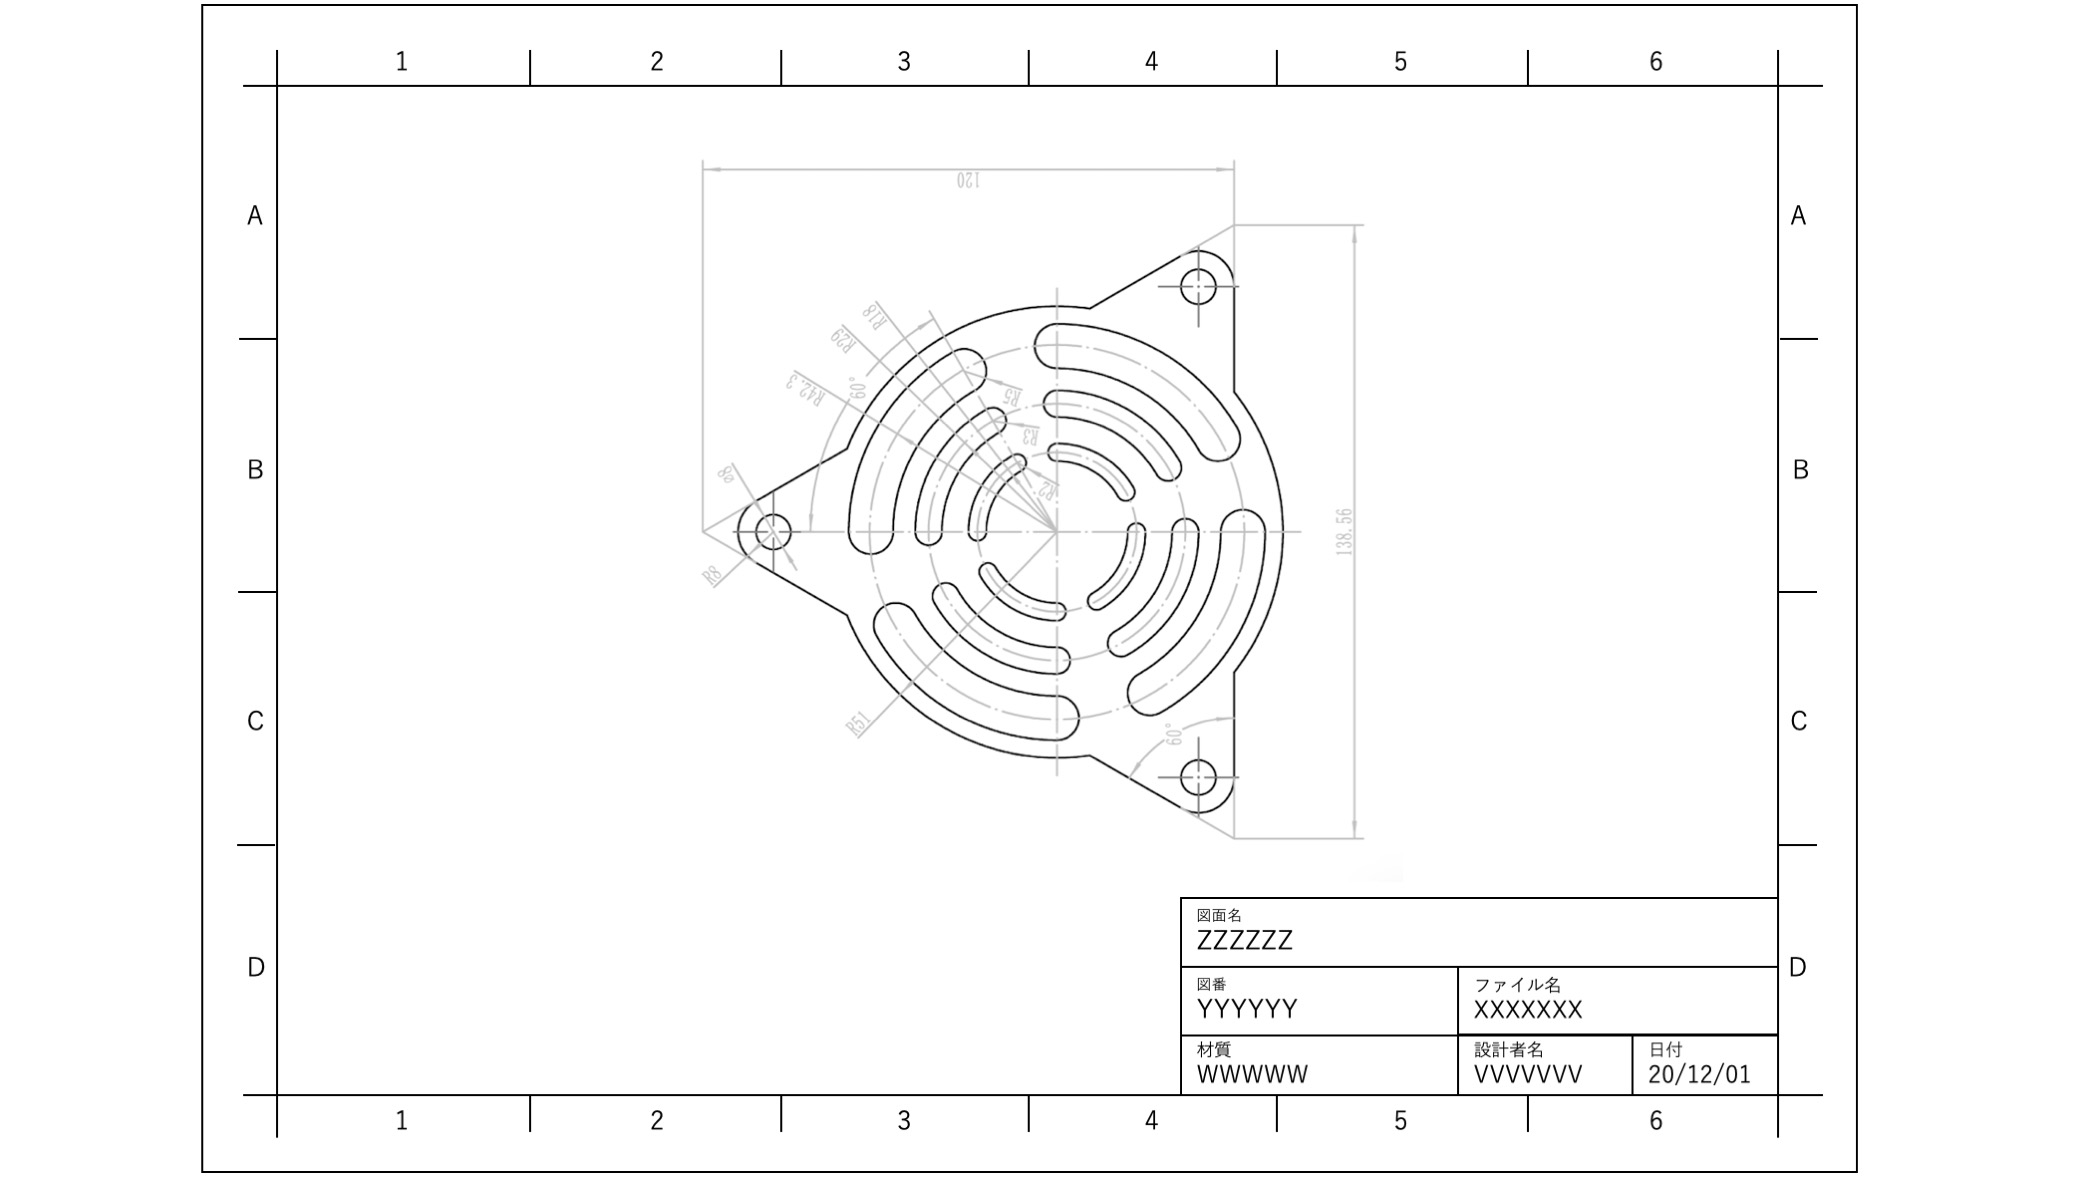circle: (1165, 743, 1226, 808), (746, 497, 796, 572), (1175, 249, 1226, 324)
round_rectangle: (835, 337, 992, 551), (1034, 311, 1256, 461), (860, 604, 1072, 751), (1138, 505, 1275, 711), (893, 386, 1011, 542), (1038, 376, 1190, 486), (1108, 512, 1214, 655), (927, 580, 1069, 678), (963, 447, 1036, 557), (974, 548, 1067, 629), (1041, 435, 1137, 508), (1083, 516, 1150, 611)
